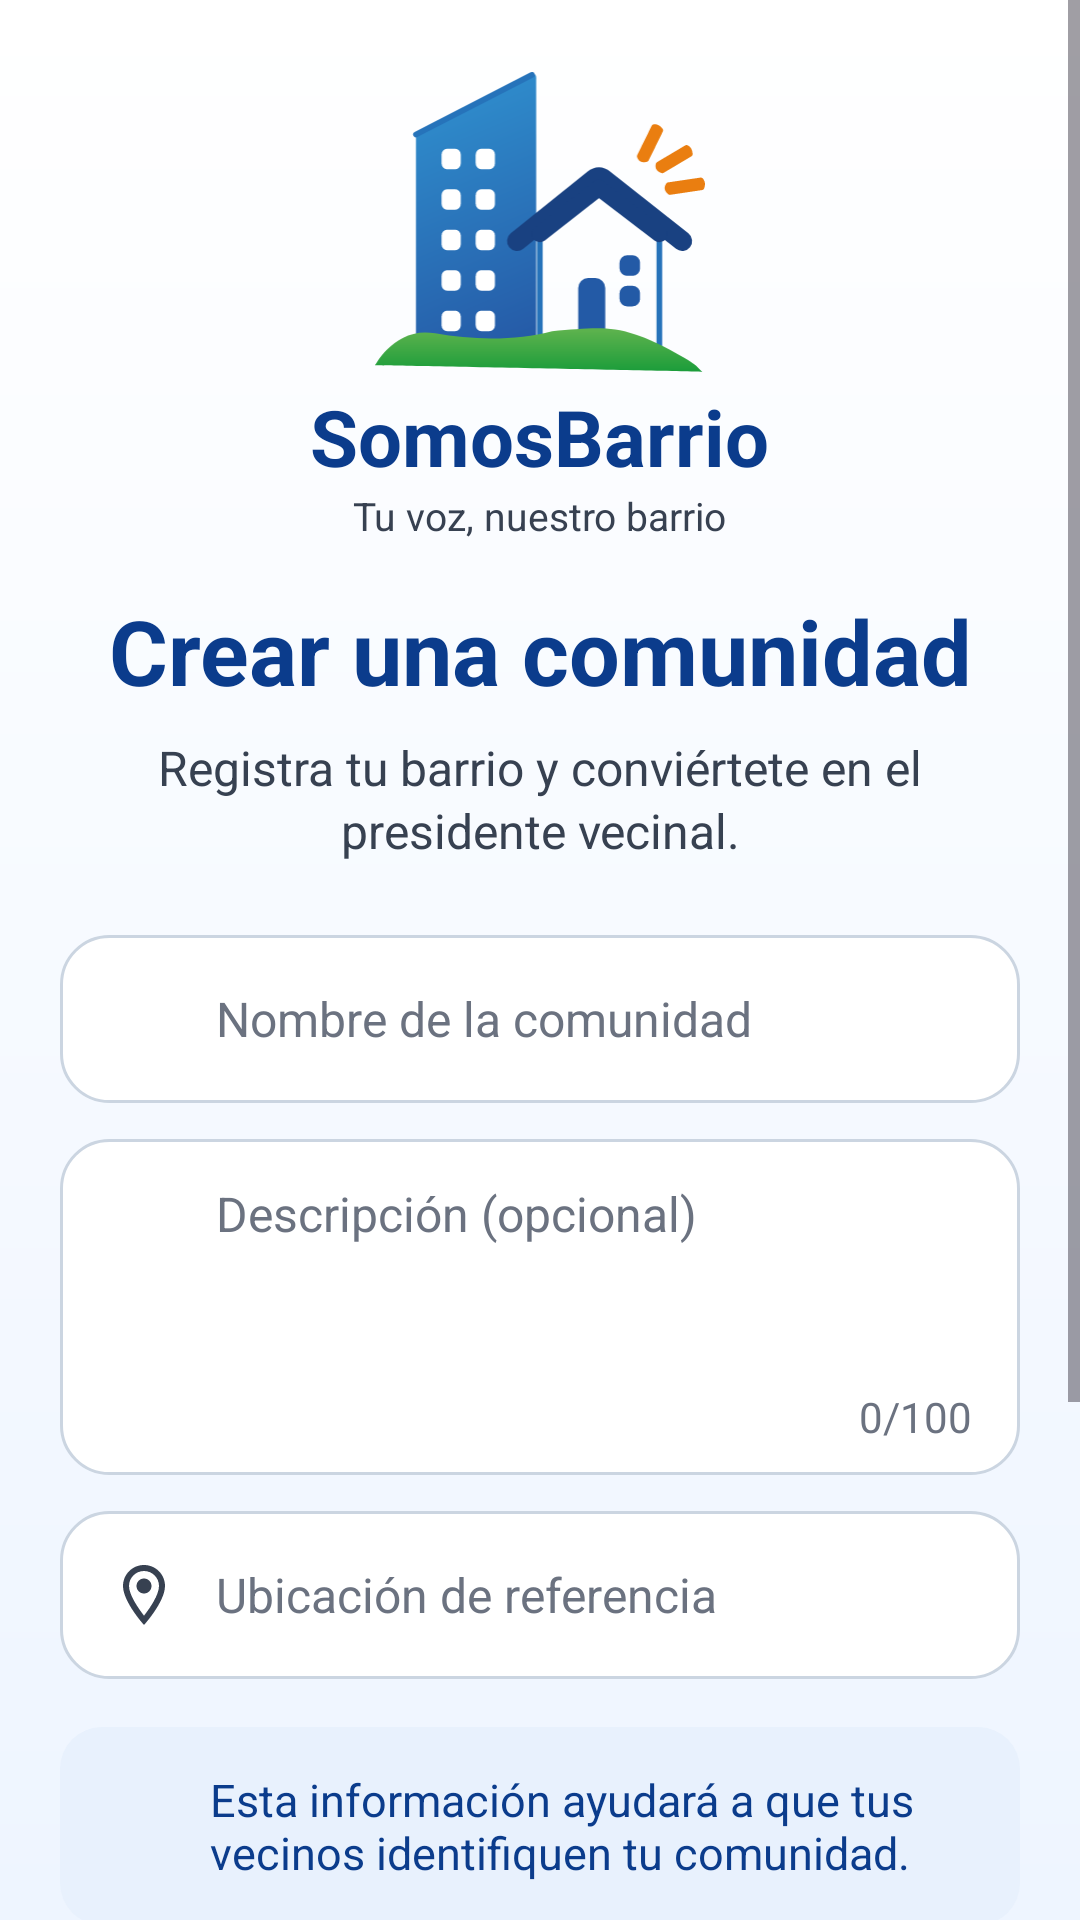

Named icons in this screenshot (1080×1920) and their centers, [x,y]:
location: [144,1595]
